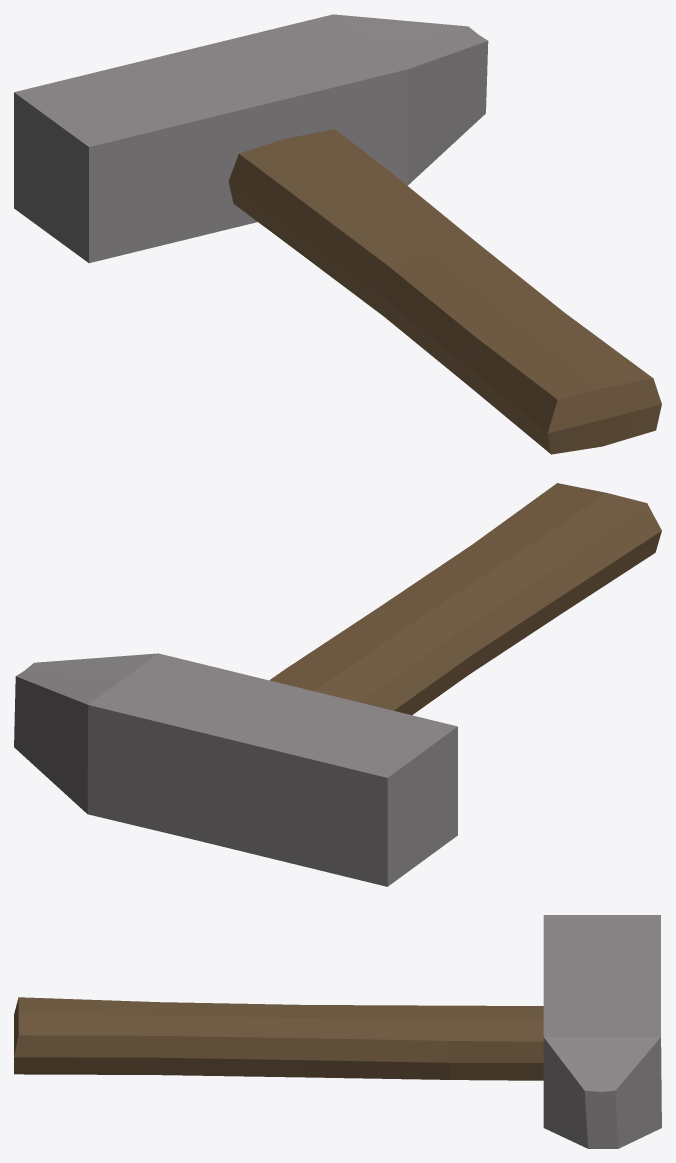
The model's file is molotok.fbx.
3 renders of one model, top to bottom at view 1: azimuth 30°, elevation 25°; view 2: azimuth 150°, elevation 25°; view 3: azimuth 270°, elevation 25°, orthographic. The views are drawn at different scales.
Parts seen in each view (by area): view 1: Cube.001, Cube; view 2: Cube.001, Cube; view 3: Cube, Cube.001.
Boxes of the visible parts, box(x1,y1,x2,y2) form: Cube.001: box(14, 14, 488, 263); Cube: box(228, 129, 661, 454); Cube.001: box(14, 653, 457, 886); Cube: box(269, 483, 661, 714); Cube: box(14, 997, 543, 1080); Cube.001: box(543, 915, 661, 1148).
Bounding box in the file's own units: 133 × 34.6 × 223.
